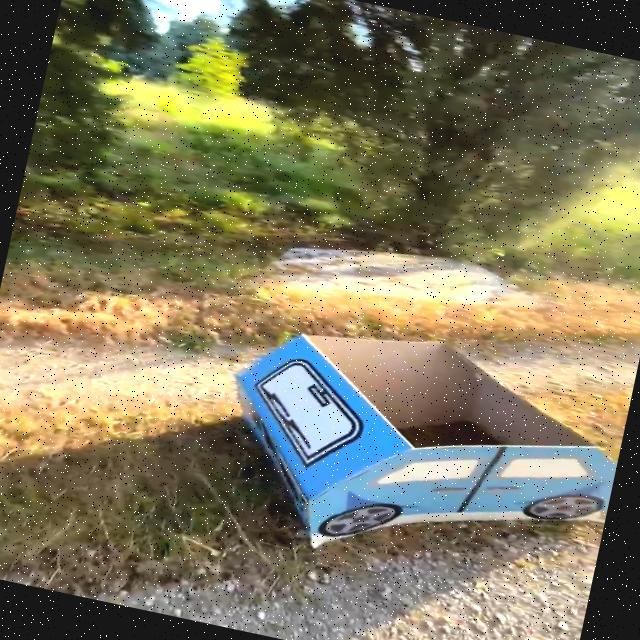blue_car: (166, 279, 637, 622)
